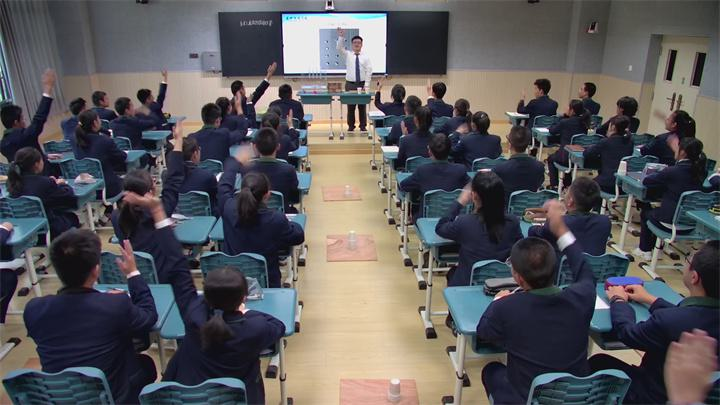hands-up: (133, 189, 273, 359), (23, 232, 154, 343), (510, 195, 598, 347), (440, 171, 511, 262), (129, 117, 186, 193), (1, 71, 60, 134), (233, 59, 279, 101), (140, 64, 176, 115), (515, 76, 558, 115), (267, 105, 302, 146), (375, 77, 408, 120), (420, 69, 447, 116)
listen: (603, 225, 720, 349), (12, 142, 77, 215), (75, 112, 127, 181)
